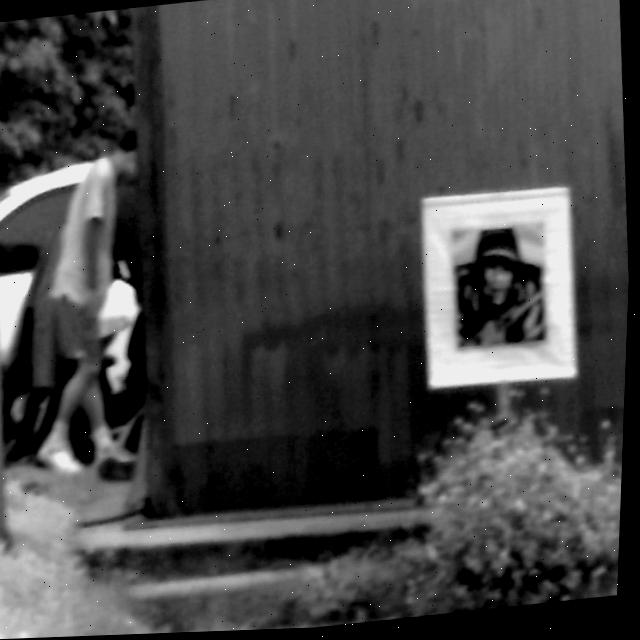bia: (450, 223, 554, 351)
